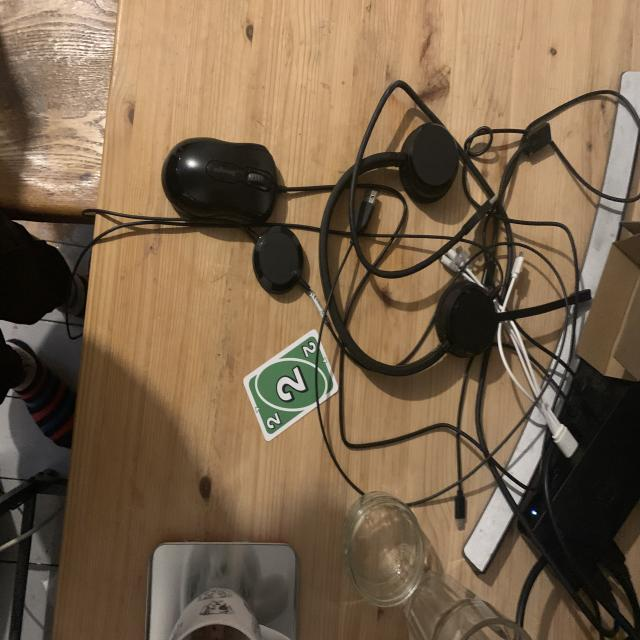lgreen-2: (298, 339, 320, 361)
